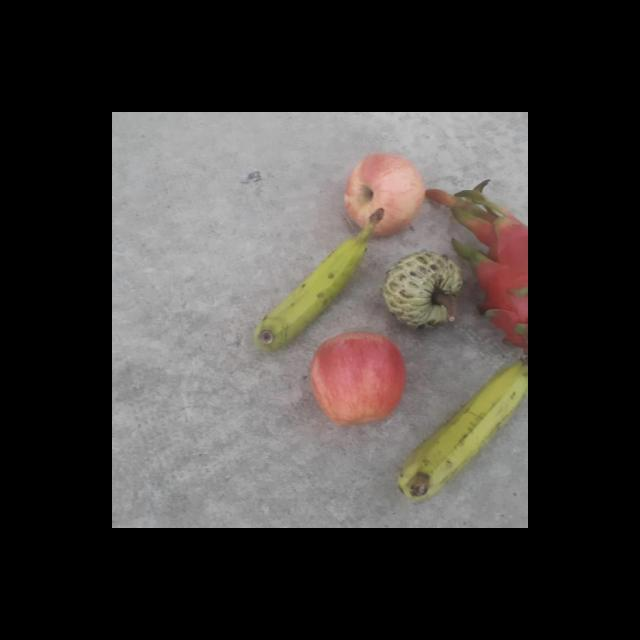Sakya fruit: (380, 249, 466, 332)
apple: (308, 328, 408, 426), (342, 151, 426, 240)
banana: (250, 206, 386, 352), (399, 354, 528, 501)
pitaya: (470, 215, 528, 358)
